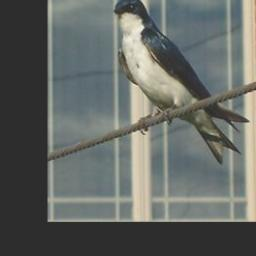Swallow: (113, 0, 251, 166)
